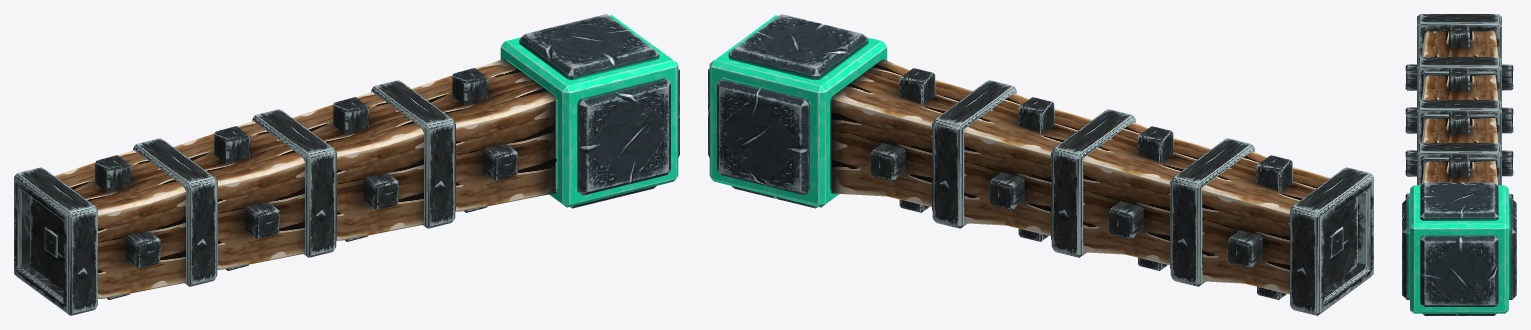
Rendered from step_005.glb.
3 renders of one model, left to right at view 1: azimuth 30°, elevation 25°; view 2: azimuth 150°, elevation 25°; view 3: azimuth 270°, elevation 25°, orthographic. The views are drawn at different scales.
Parts seen in each view (by area): view 1: SingleWoodenBlock_89af80de-2526-4ee2-ab07-b7e7c5021b56, StartingBlock_09145c43-bf50-4c75-83c5-992909d46fd2; view 2: SingleWoodenBlock_89af80de-2526-4ee2-ab07-b7e7c5021b56, StartingBlock_09145c43-bf50-4c75-83c5-992909d46fd2; view 3: SingleWoodenBlock_89af80de-2526-4ee2-ab07-b7e7c5021b56, StartingBlock_09145c43-bf50-4c75-83c5-992909d46fd2.
Boxes of the visible parts, x1,y1,x2,y2 form: SingleWoodenBlock_89af80de-2526-4ee2-ab07-b7e7c5021b56: (14,59,556,315); StartingBlock_09145c43-bf50-4c75-83c5-992909d46fd2: (500,14,679,208); SingleWoodenBlock_89af80de-2526-4ee2-ab07-b7e7c5021b56: (831,59,1373,315); StartingBlock_09145c43-bf50-4c75-83c5-992909d46fd2: (708,14,887,208); SingleWoodenBlock_89af80de-2526-4ee2-ab07-b7e7c5021b56: (1405,14,1513,199); StartingBlock_09145c43-bf50-4c75-83c5-992909d46fd2: (1402,182,1516,315).
Size of the model in its own units: 5.17 by 1.13 by 1.13.
2 materials, 2 textured.
